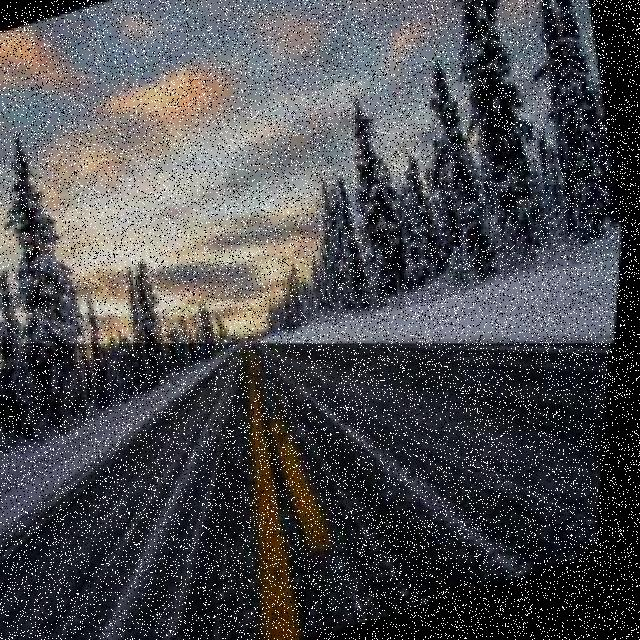ice-road: (0, 345, 619, 640)
